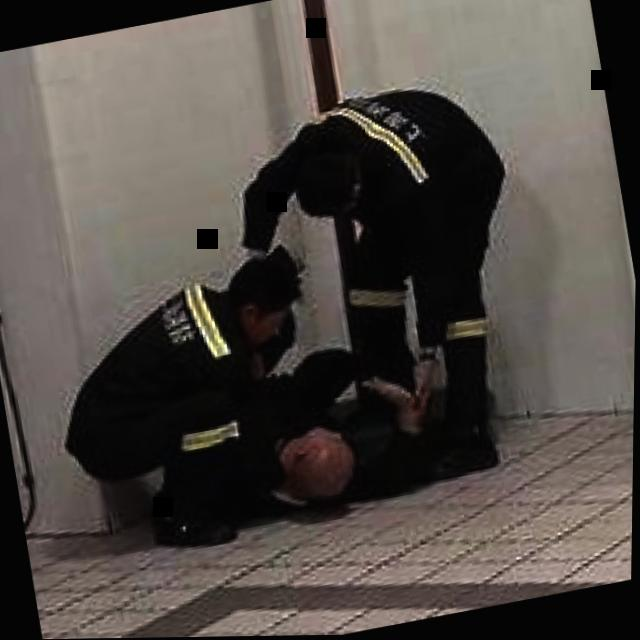Fall-Detected: (180, 311, 473, 533)
